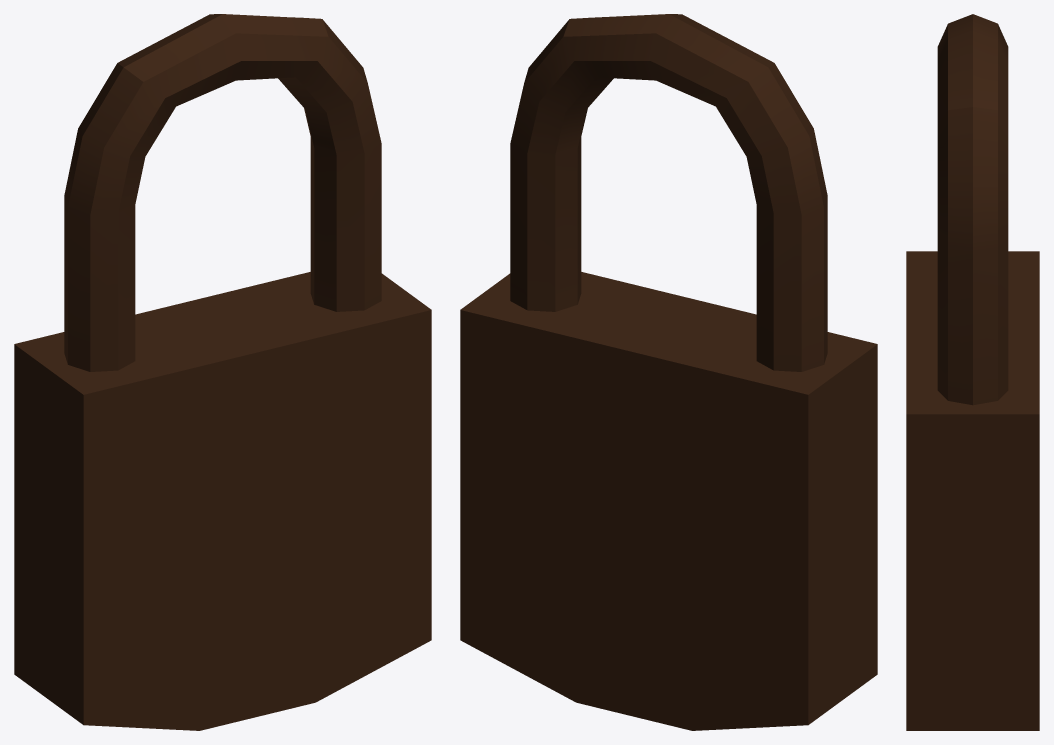
File: Lock.fbx
The picture shows the model from 3 angles, left to right: view 1: azimuth 30°, elevation 25°; view 2: azimuth 150°, elevation 25°; view 3: azimuth 270°, elevation 25°; orthographic projection. The views are drawn at different scales.
Visible parts, largest first — view 1: Lock; view 2: Lock; view 3: Lock.
Boxes of the visible parts, x1,y1,x2,y2 form: Lock: (14, 14, 431, 730); Lock: (460, 14, 877, 730); Lock: (906, 14, 1039, 730).
Size of the model in its own units: 0.189 by 0.3513 by 0.0652.
